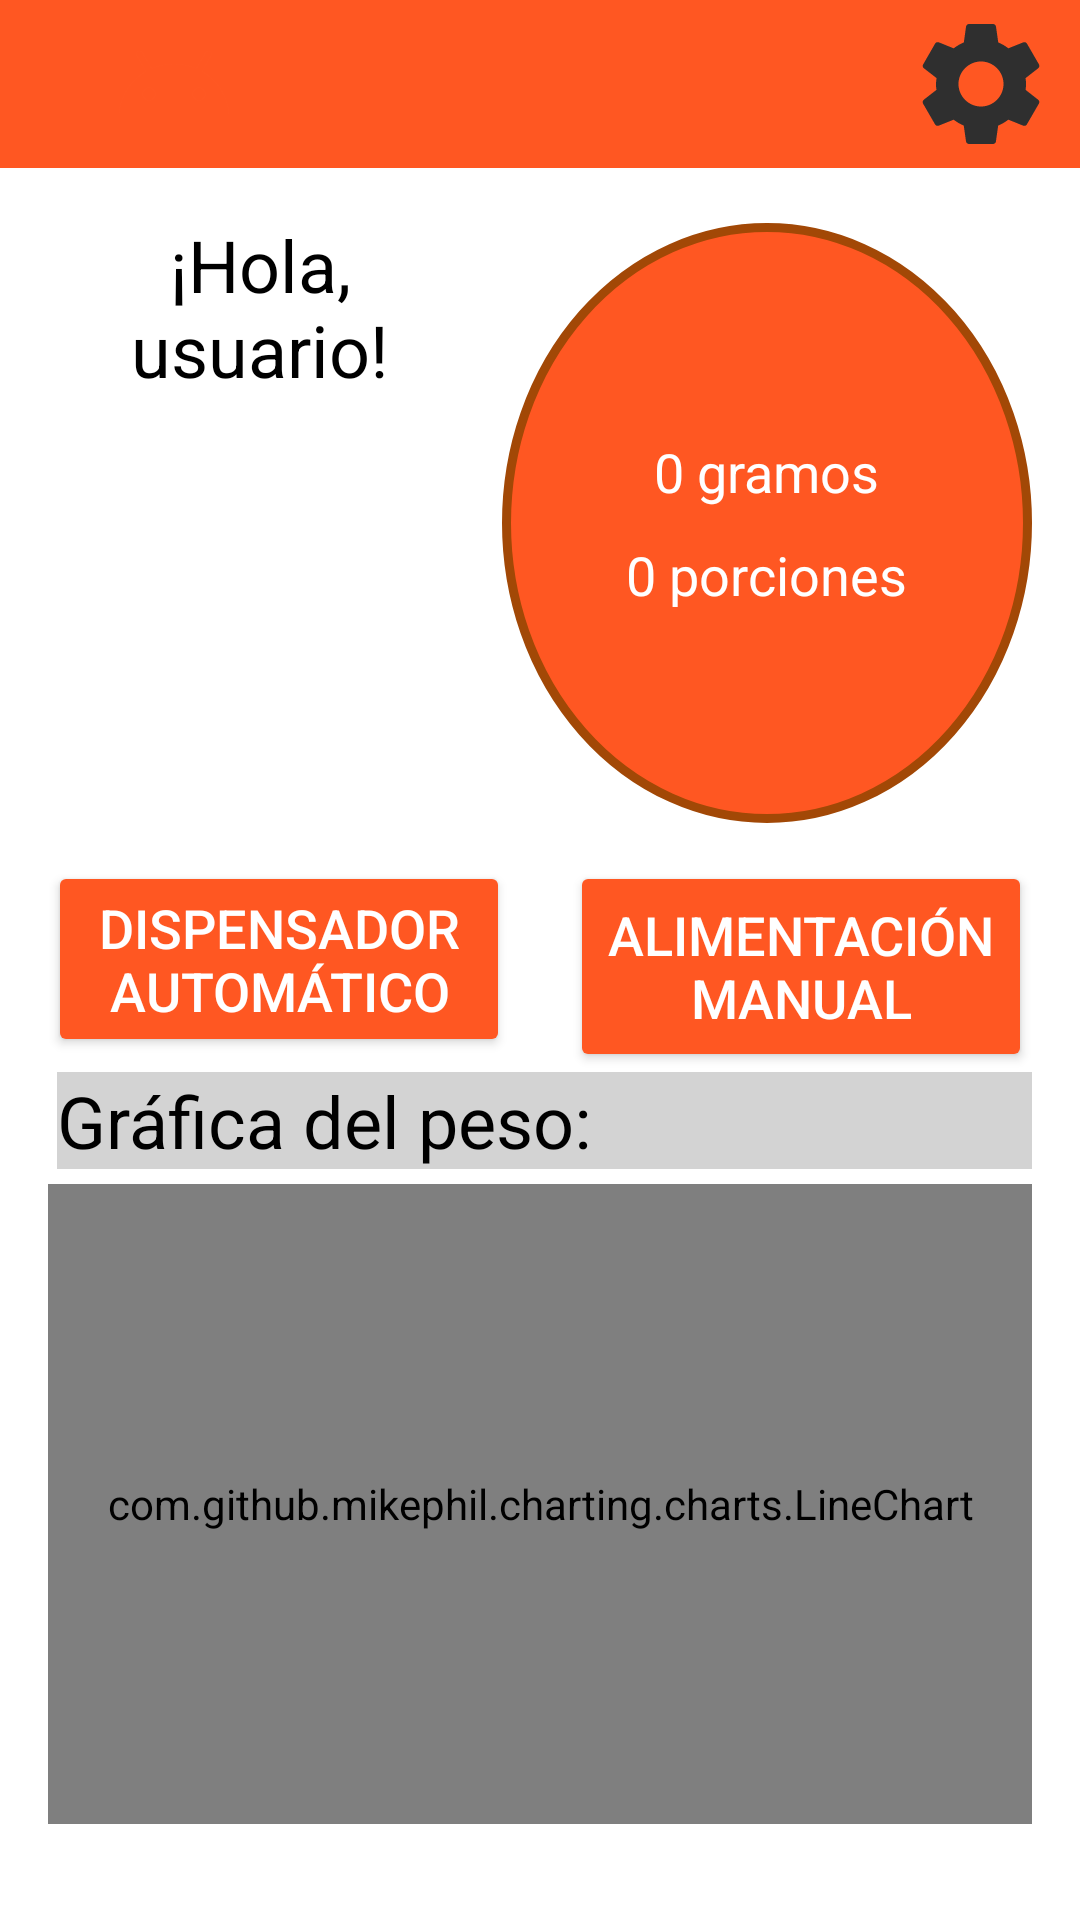

Icon click points for this 1080*1920 phone screenshot, format (x,y):
setting: (981,84)
